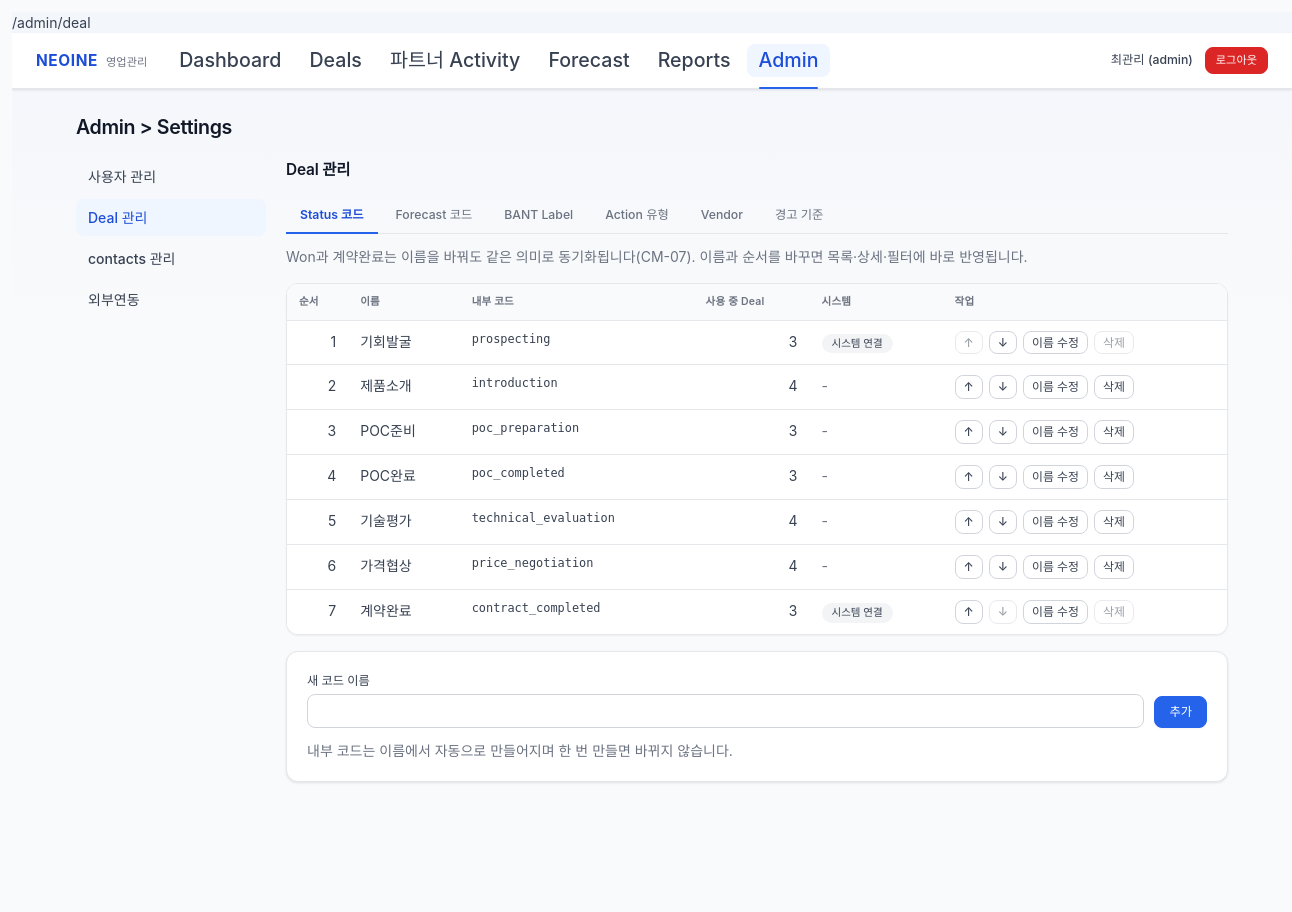
it: Status 코드 이름 수정 (T-ADMIN-04) › cancels the rename with Escape and keeps the name
expect the row "1 기회발굴 prospecting 3 시스템 연결 ↑ ↓ 이름 수정 삭제" is shown: met, box [287, 321, 1227, 366]
Click the button "이름 수정" in the row of "가격협상": (1055, 567) [1023, 555, 1088, 579]
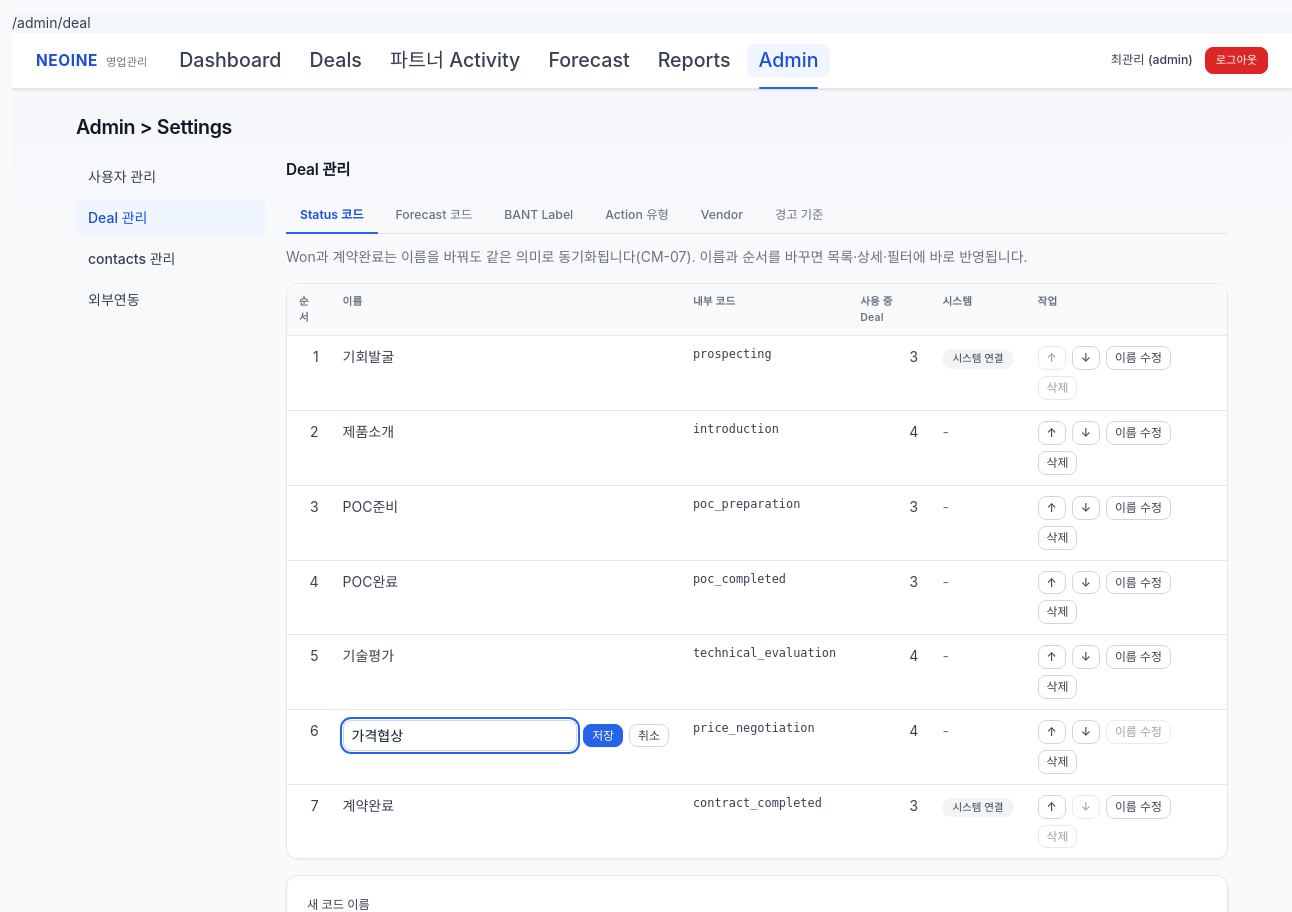
In the field named "코드 이름": (460, 736) [343, 720, 577, 751], type "추가"
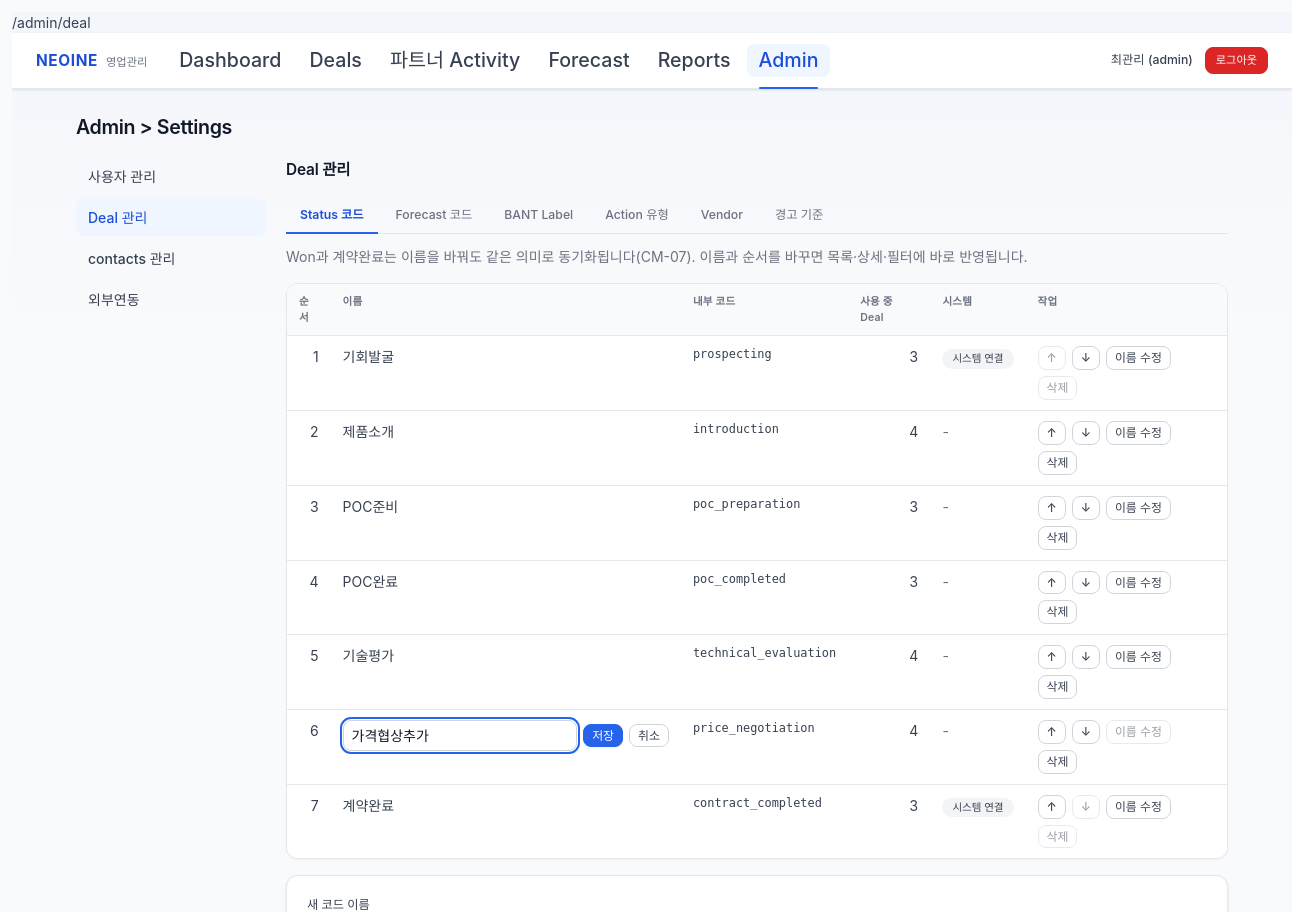
Press Escape
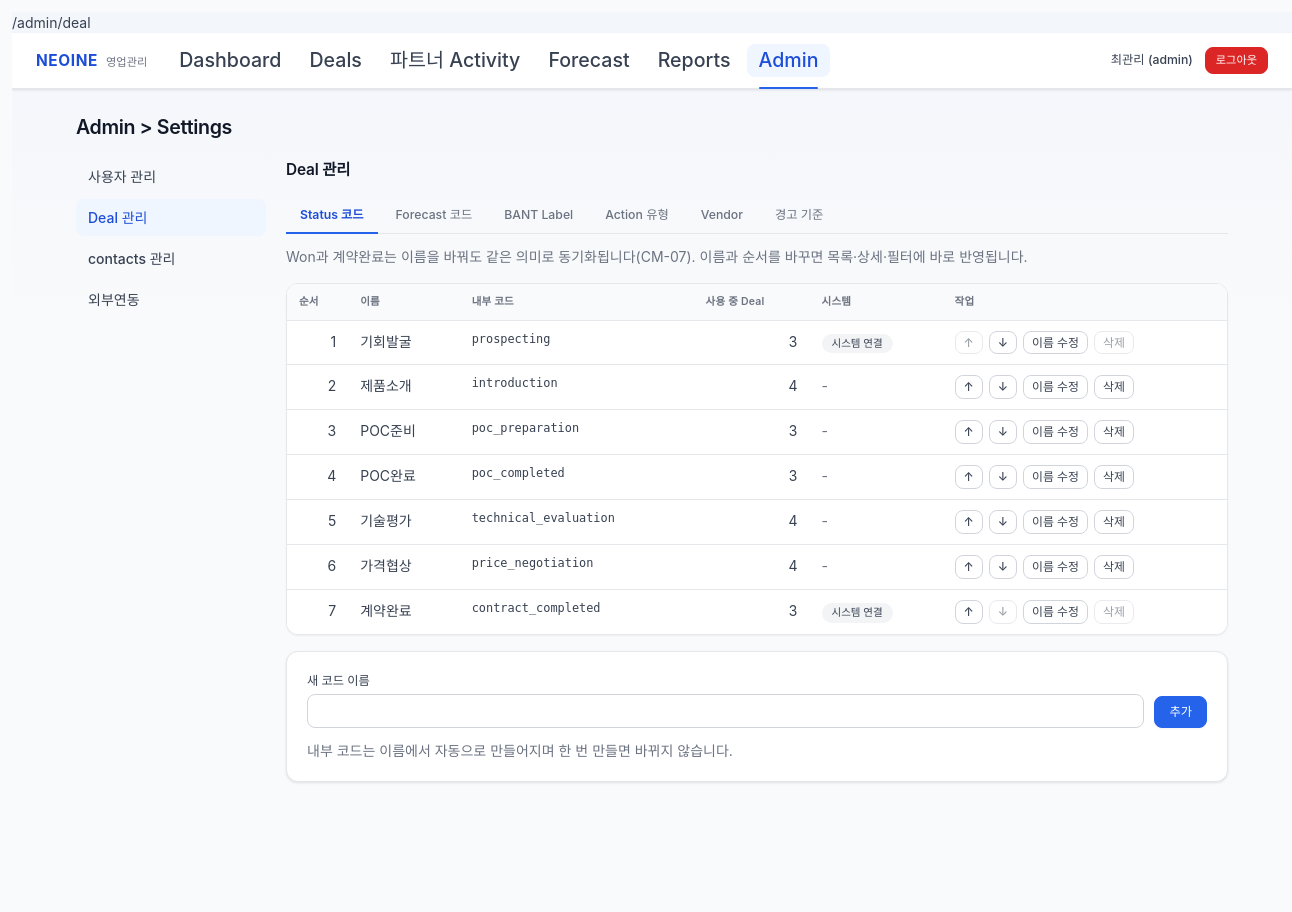
expect the row "6 가격협상 price_negotiation 4 - ↑ ↓ 이름 수정 삭제" is shown: met, box [287, 545, 1227, 590]
